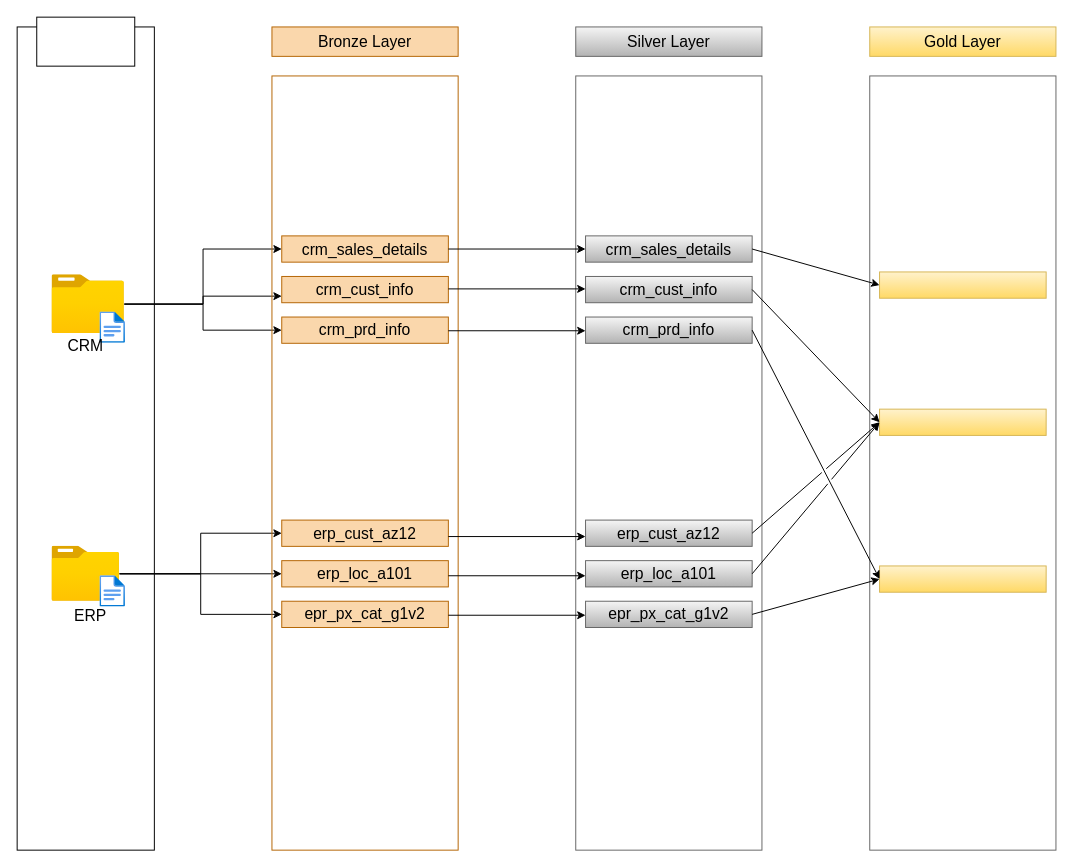
The diagram is 1073 pixels wide and 867 high, and some of its shapes have lost their labels. Each missing label, with the centre of its shape:
dim_customers: the point at 962,421
dim_products: the point at 962,578
fact_sales: the point at 962,284
Sources: the point at 85,41
